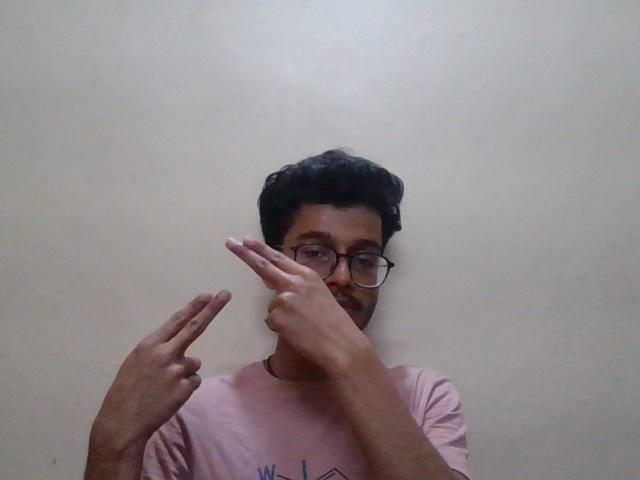my-name-is: (90, 237, 395, 439)
